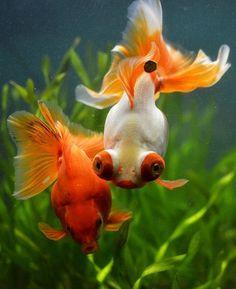goldfish: (74, 45, 217, 207)
